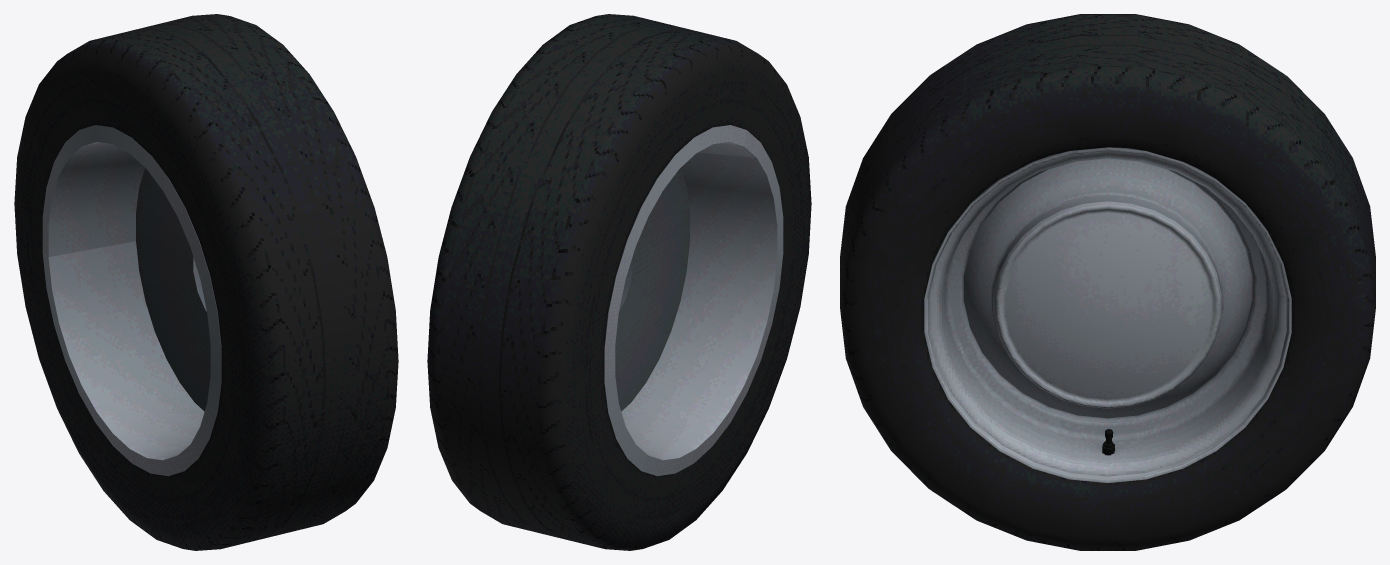
Rendered from wheel_front_right.glb.
The picture shows the model from 3 angles, left to right: view 1: azimuth 30°, elevation 25°; view 2: azimuth 150°, elevation 25°; view 3: azimuth 270°, elevation 25°; orthographic projection. The views are drawn at different scales.
Parts seen in each view (by area): view 1: wheel_front_right; view 2: wheel_front_right; view 3: wheel_front_right.
Boxes of the visible parts, x1,y1,x2,y2 form: wheel_front_right: (14,14,398,550); wheel_front_right: (427,14,811,550); wheel_front_right: (840,14,1375,550).
Bounding box in the file's own units: 0.1811 × 0.5361 × 0.5391.
1 material, 1 textured.
